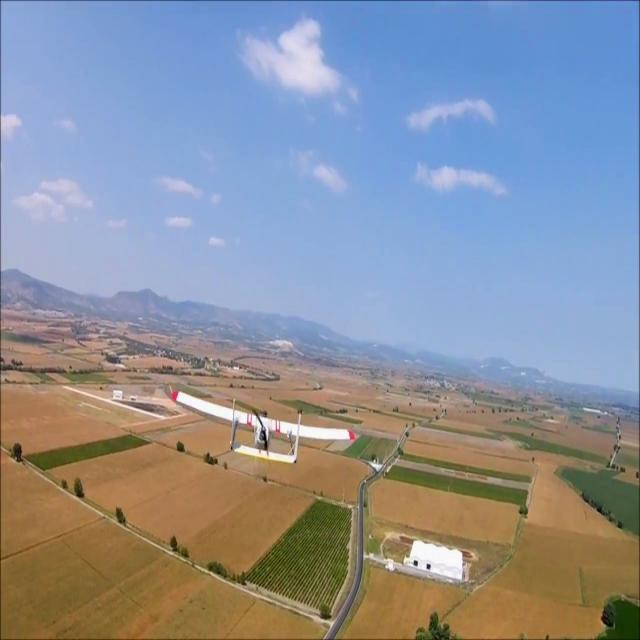iha: (164, 422, 351, 434)
